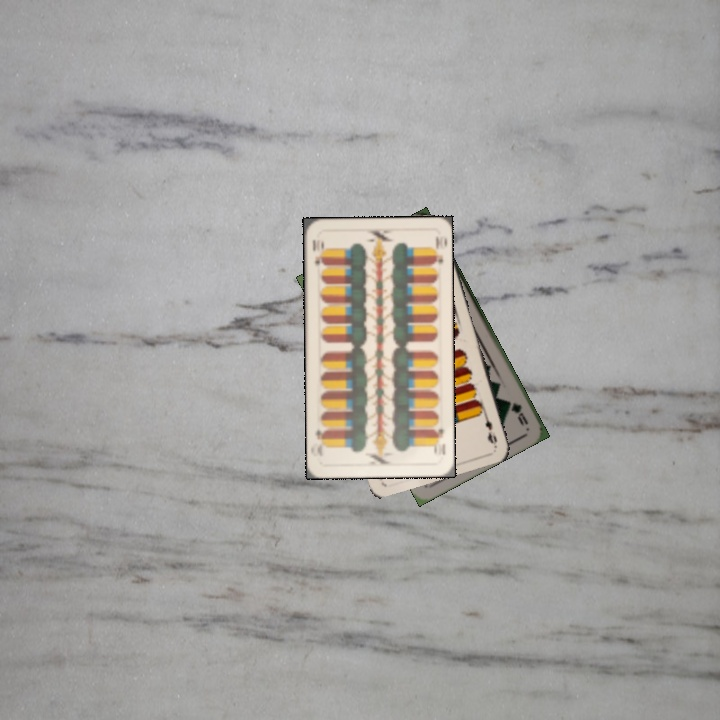E10: (308, 236, 327, 268), (430, 425, 448, 457)
E9: (476, 408, 500, 447)
G9: (503, 395, 531, 428)
